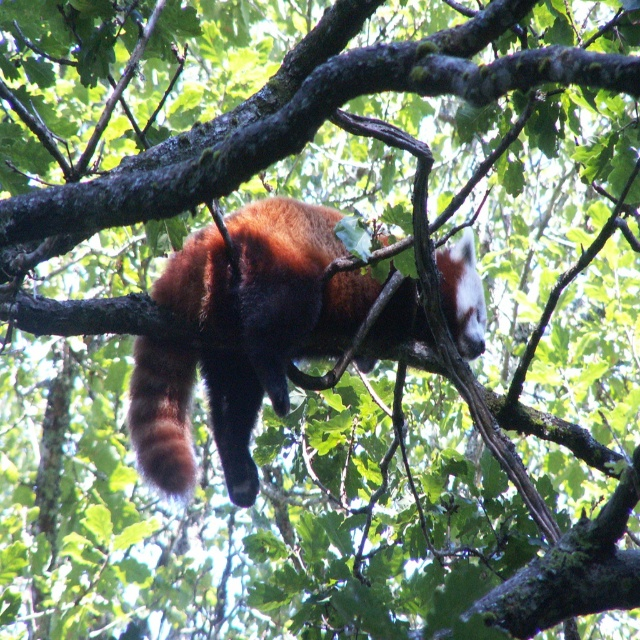Red panda: (124, 193, 492, 509)
